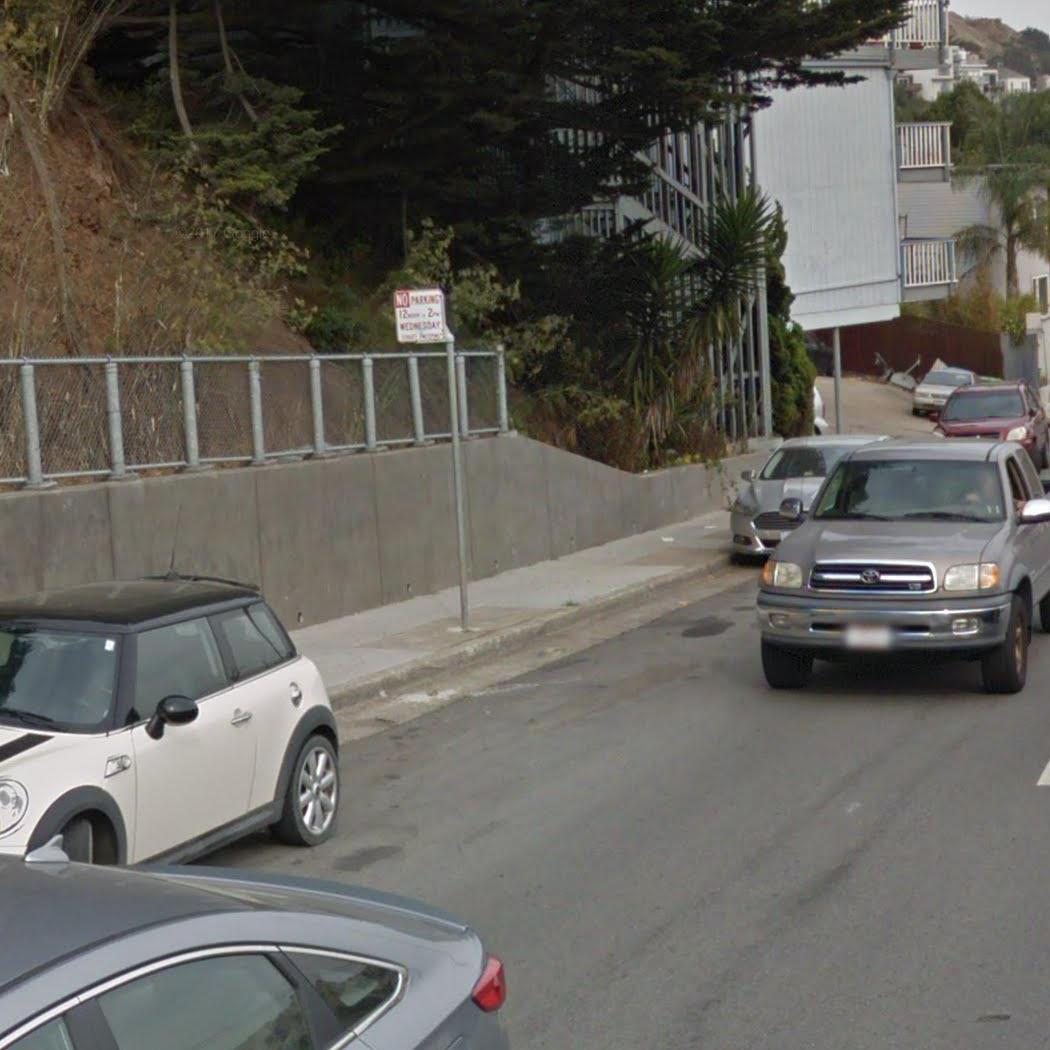No Parking: (391, 285, 450, 346)
